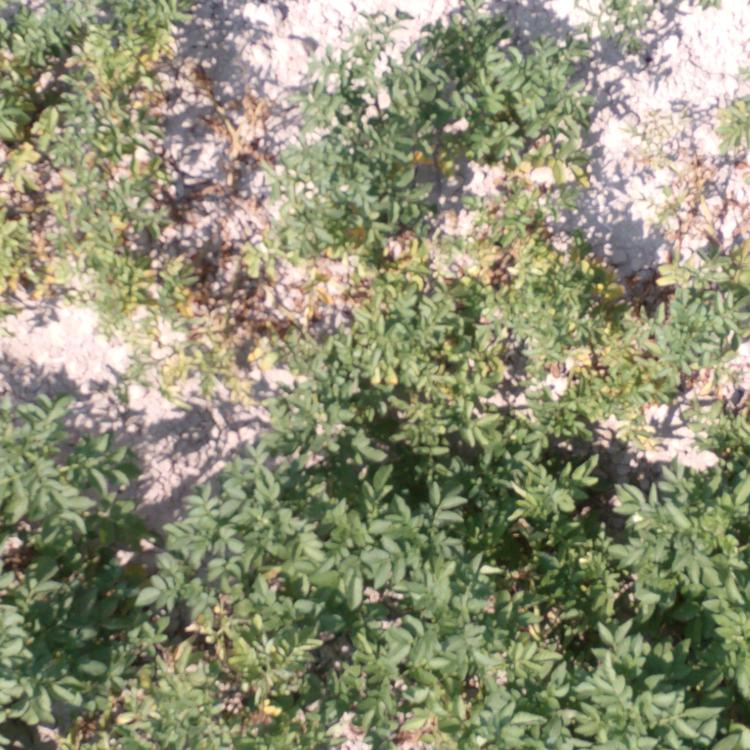healthy: (371, 553, 621, 750), (142, 555, 366, 750), (1, 522, 143, 749), (621, 550, 750, 750), (406, 1, 595, 127), (1, 371, 128, 515), (372, 463, 584, 549), (148, 463, 362, 547), (301, 35, 403, 205), (581, 471, 750, 547), (596, 3, 683, 65)
stressed: (1, 134, 206, 305), (209, 207, 472, 339), (1, 1, 213, 125), (476, 190, 643, 344), (203, 342, 362, 461), (521, 346, 682, 461), (362, 347, 525, 458), (672, 221, 750, 393), (642, 91, 749, 191), (405, 133, 596, 186), (129, 311, 200, 398), (690, 397, 750, 466)
